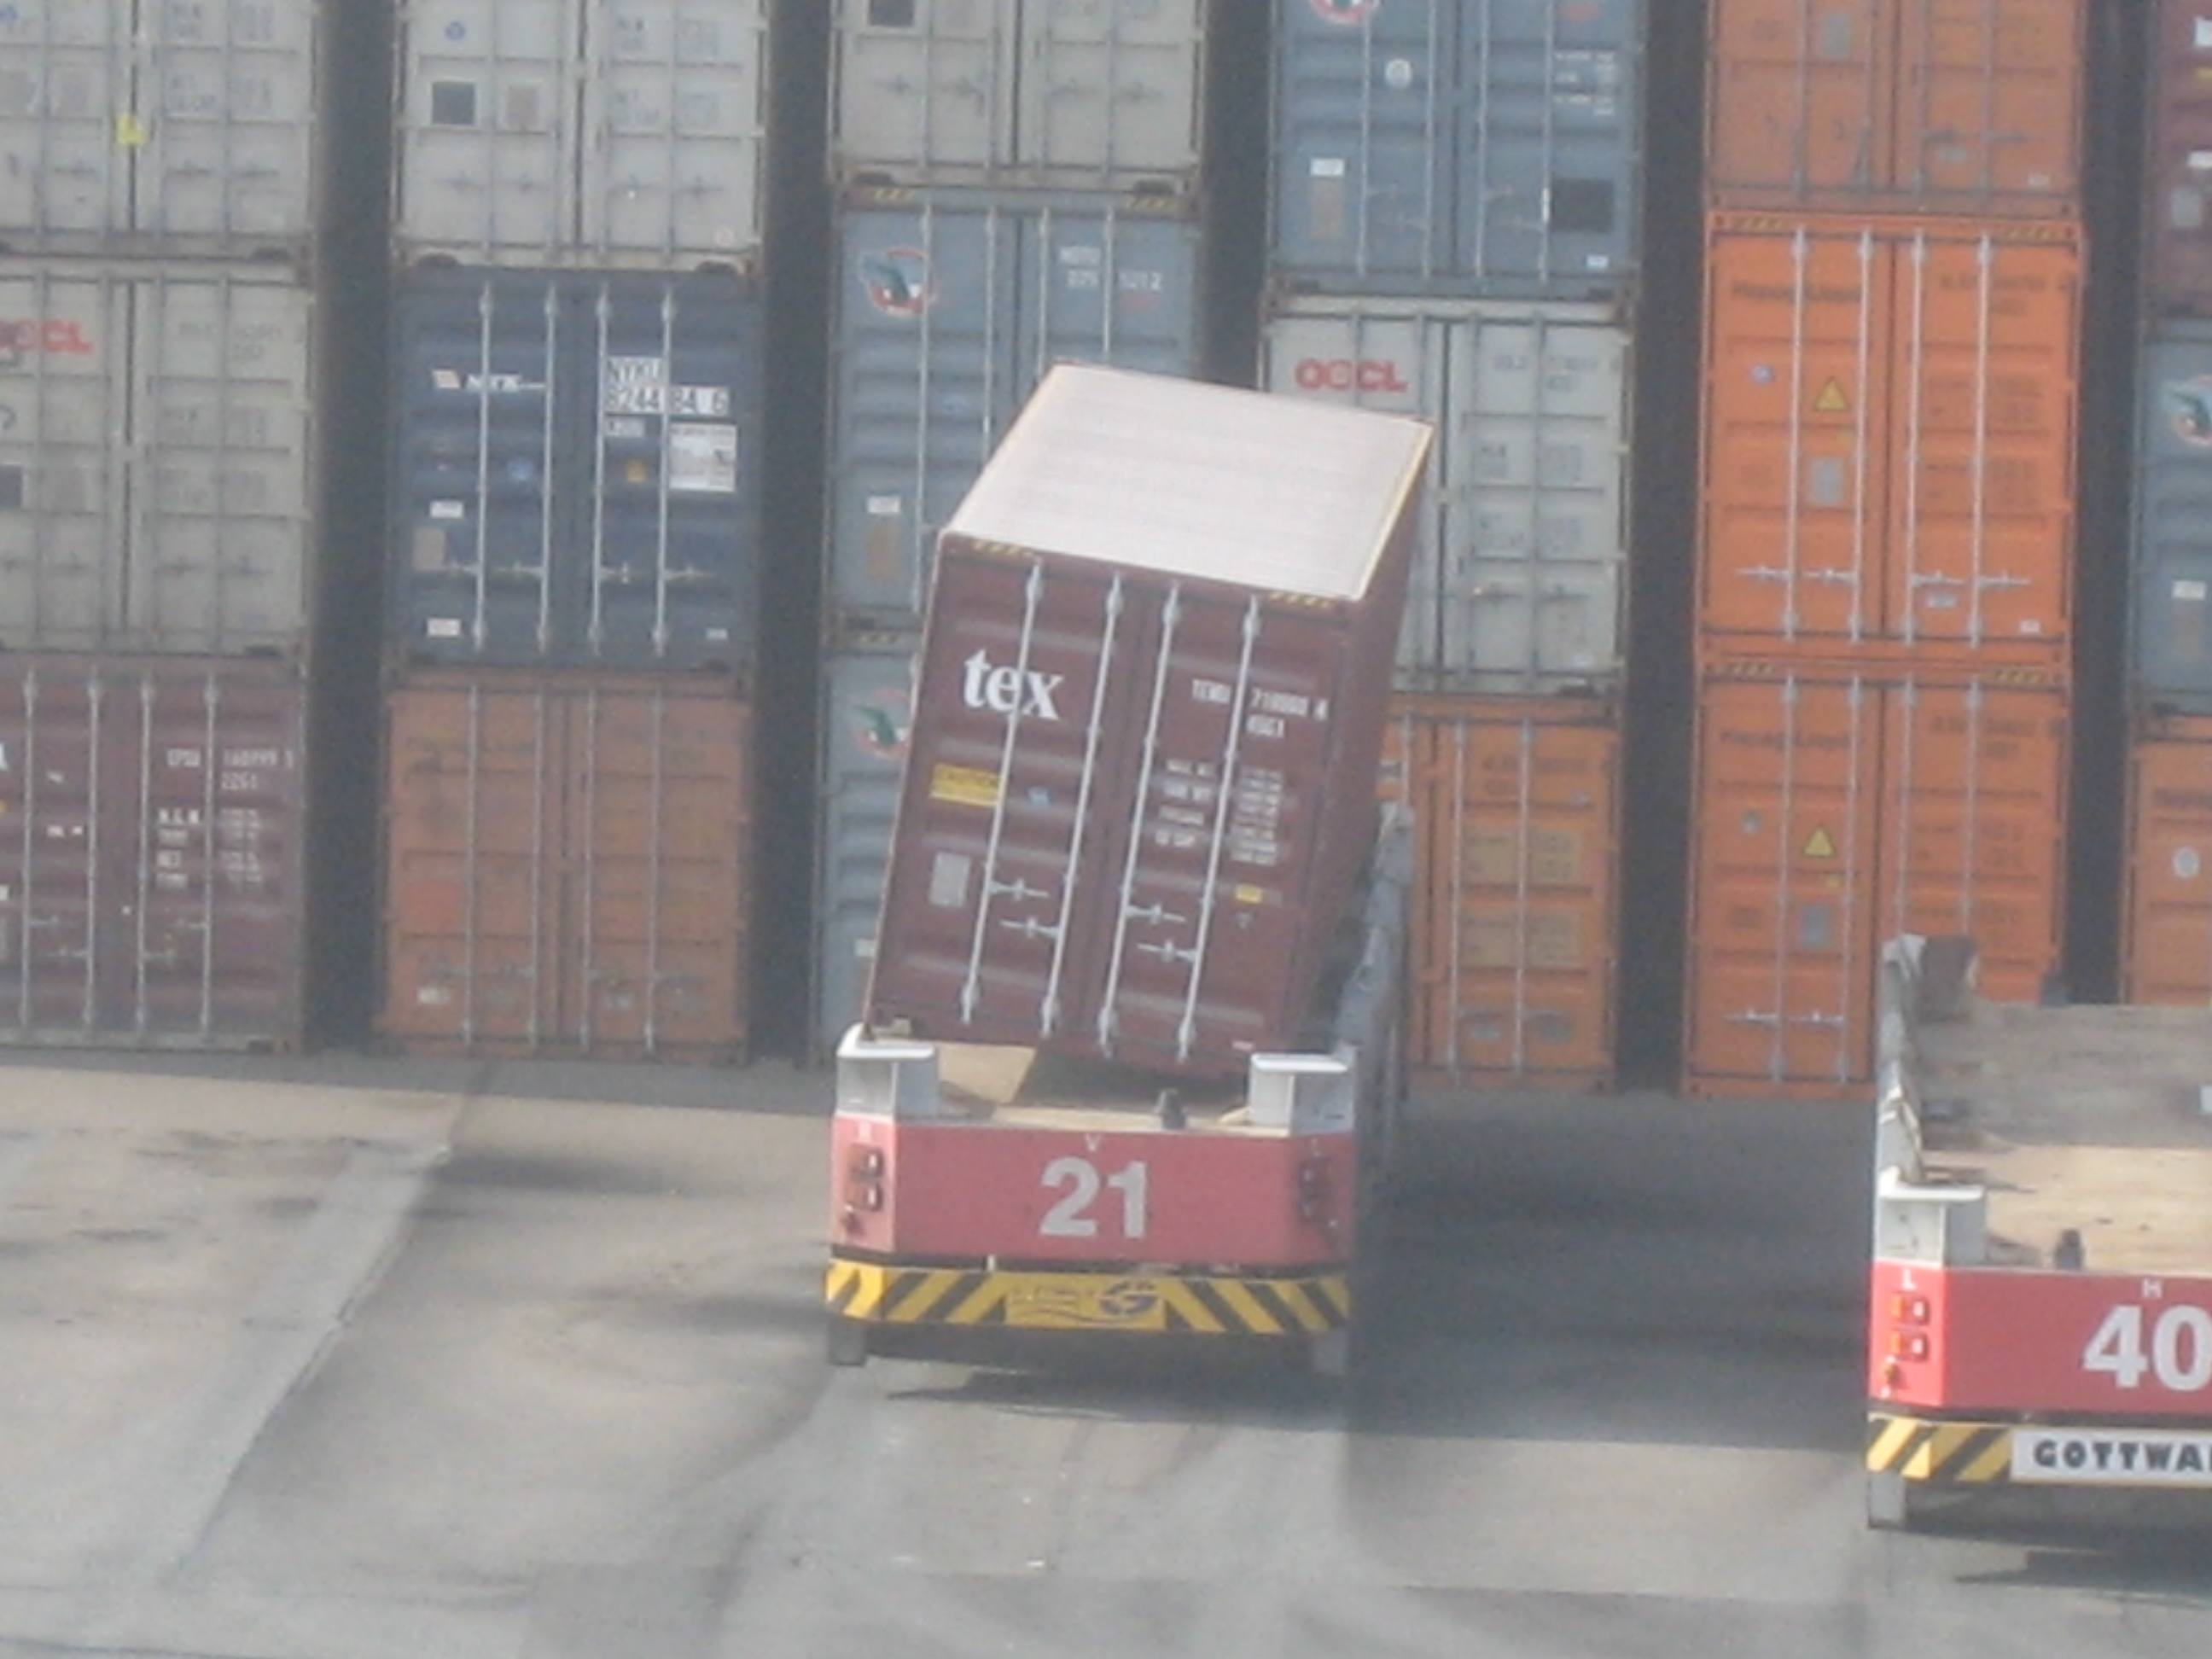container_door: (911, 526, 1331, 1096), (1695, 204, 2074, 655), (1700, 662, 2080, 1112), (381, 681, 756, 1068), (380, 286, 754, 671), (10, 274, 310, 655), (0, 666, 300, 1047), (378, 0, 763, 270), (1240, 0, 1625, 270), (1416, 681, 1620, 1127), (1430, 274, 1632, 720), (16, 7, 326, 270)
